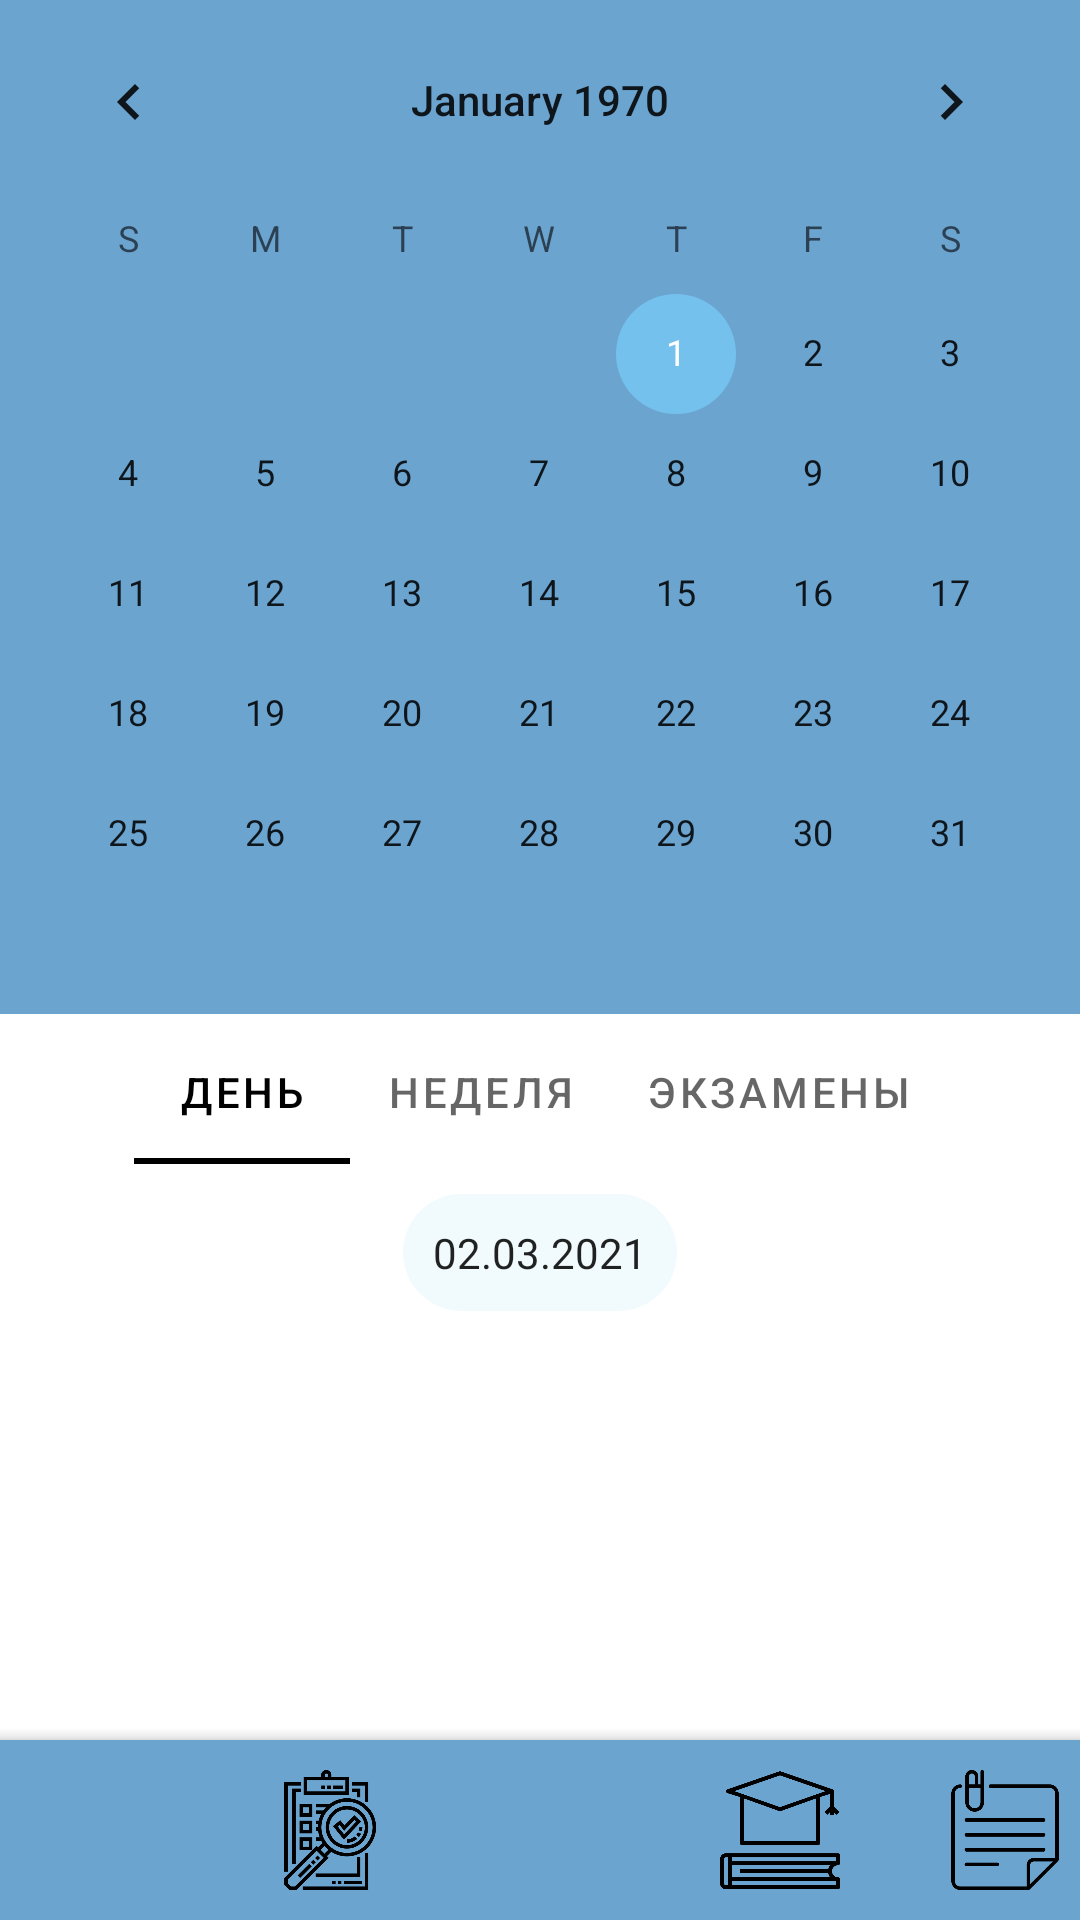

Point at icon controls on the screen. Image size 1080*1920, points as point (x, y).
bottom menu education: point (780, 1830)
bottom menu mark: point (330, 1830)
bottom menu notes: point (1005, 1830)
